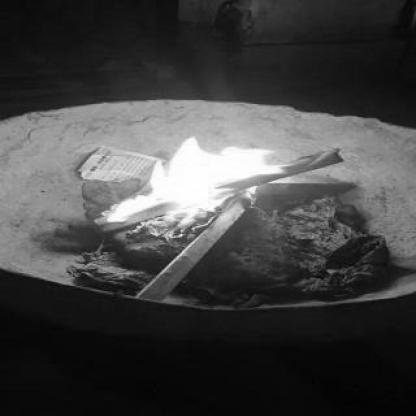fire: (95, 132, 290, 228)
